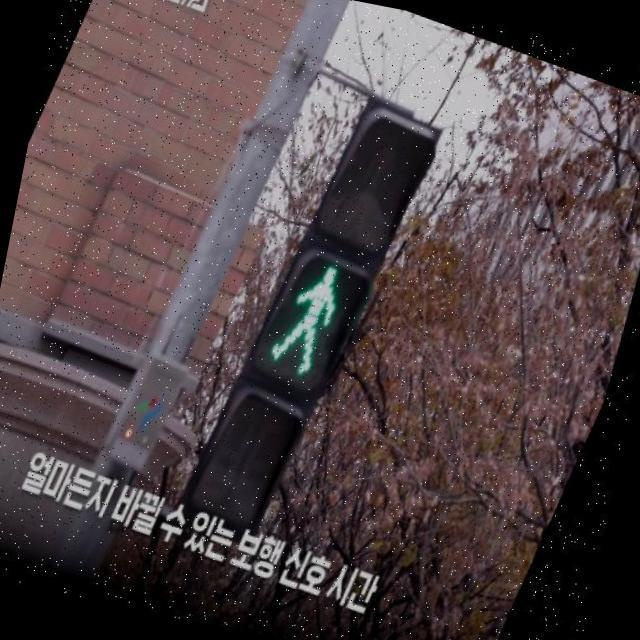greenlight: (235, 97, 452, 402)
